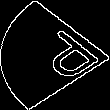P_SE: (12, 23, 98, 87)
